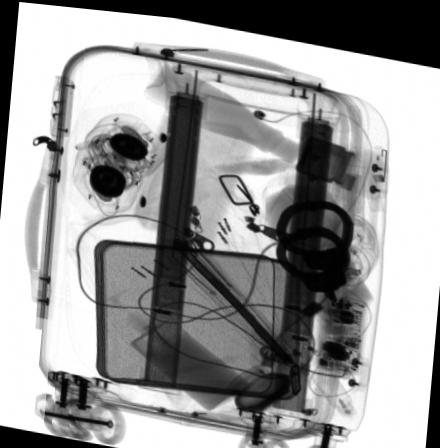HandCuffs: (273, 191, 355, 295)
